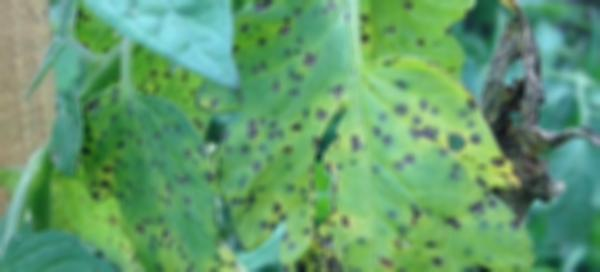Tomato Septoria leaf spot: (203, 5, 538, 272), (43, 79, 216, 272)
